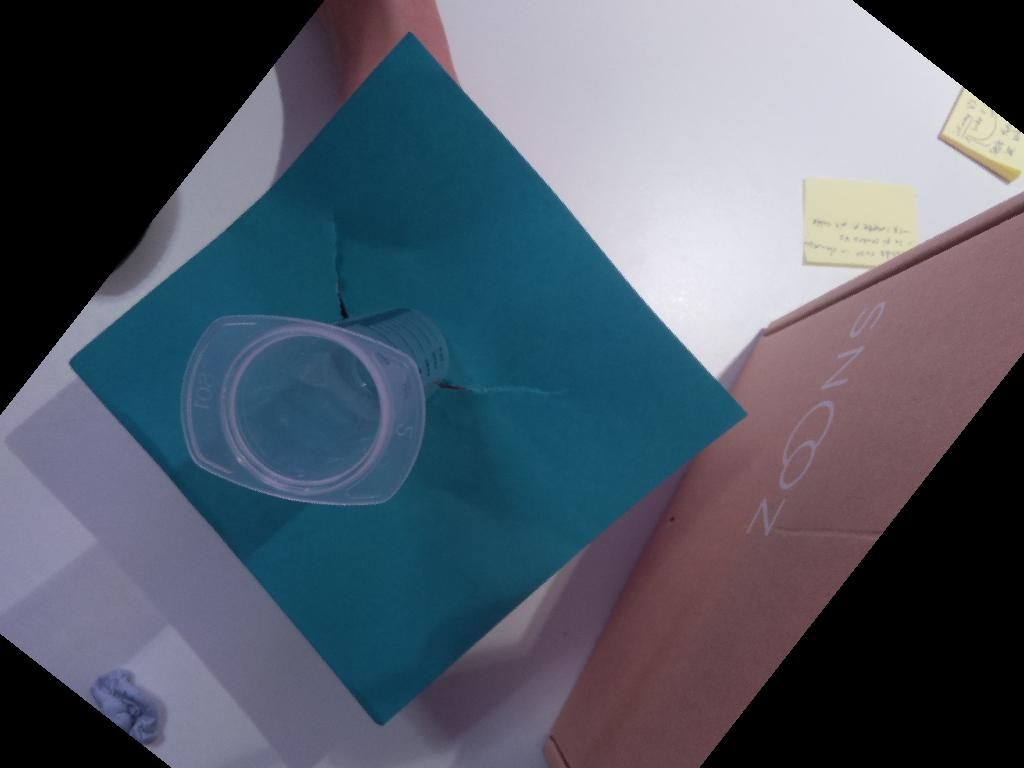clean: (178, 310, 430, 506)
